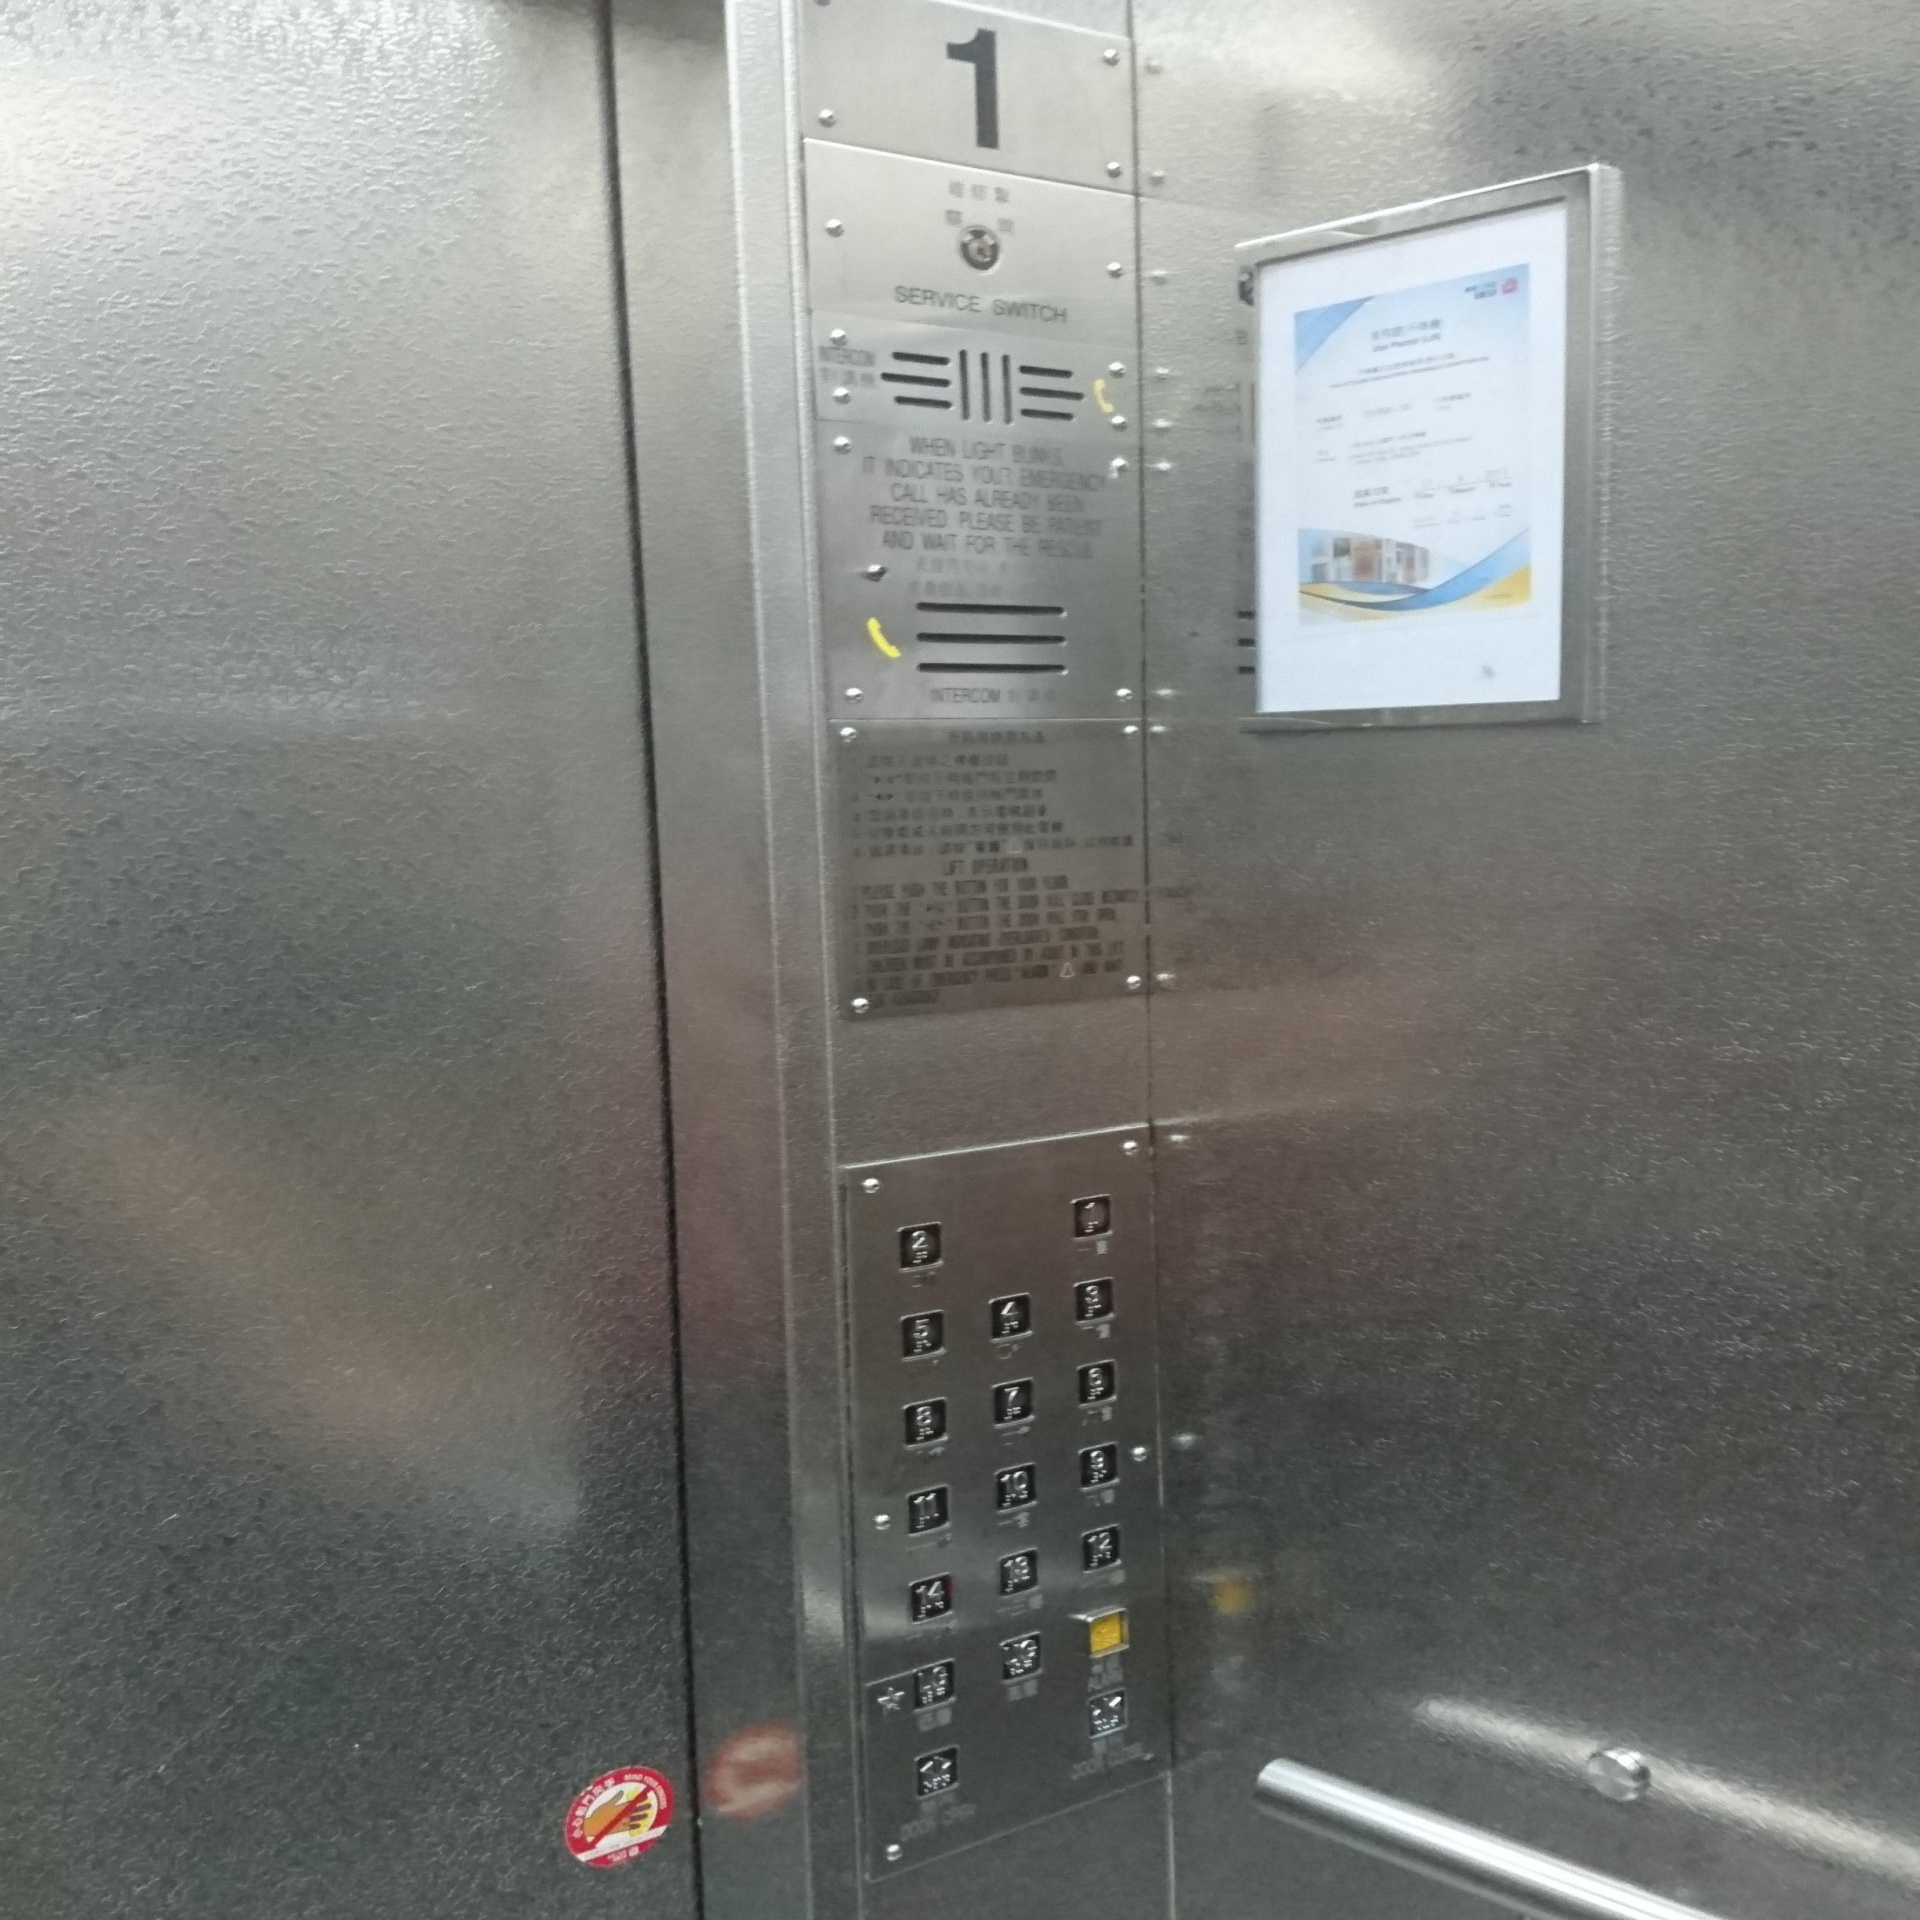1: (1071, 1194, 1113, 1238)
10: (993, 1459, 1039, 1517)
11: (904, 1482, 951, 1538)
12: (1081, 1524, 1120, 1574)
13: (999, 1545, 1043, 1598)
14: (905, 1568, 955, 1626)
2: (897, 1218, 944, 1275)
3: (1074, 1276, 1115, 1327)
4: (988, 1291, 1034, 1347)
5: (898, 1308, 948, 1364)
6: (1076, 1357, 1120, 1407)
7: (992, 1375, 1036, 1433)
8: (900, 1394, 949, 1451)
9: (1080, 1442, 1118, 1493)
LG: (916, 1655, 958, 1714)
UG: (999, 1632, 1043, 1683)
alarm: (1085, 1609, 1131, 1656)
close: (1085, 1688, 1125, 1742)
keyhole: (955, 225, 1004, 274)
open: (913, 1742, 962, 1799)
s: (865, 1669, 916, 1727)
